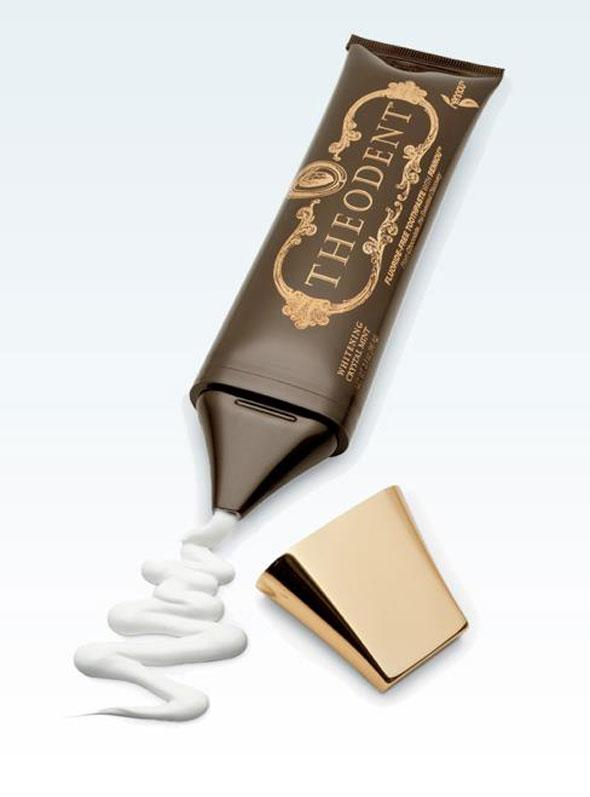toothpaste: (181, 19, 538, 555)
